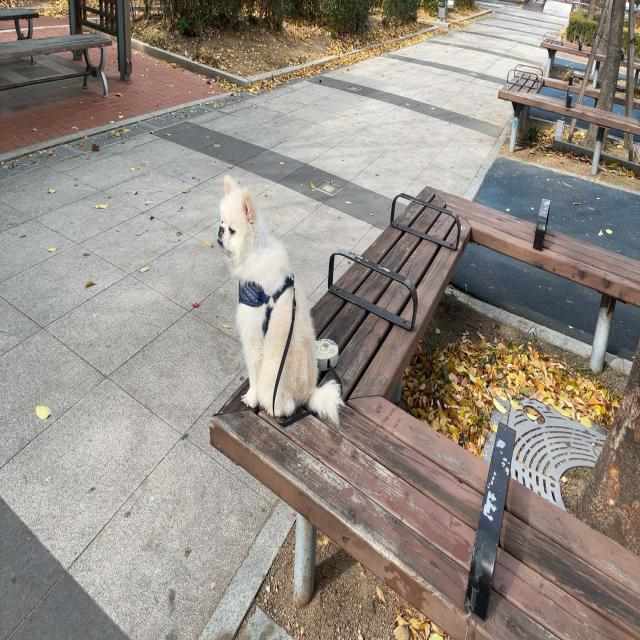Dog: (216, 175, 345, 429)
